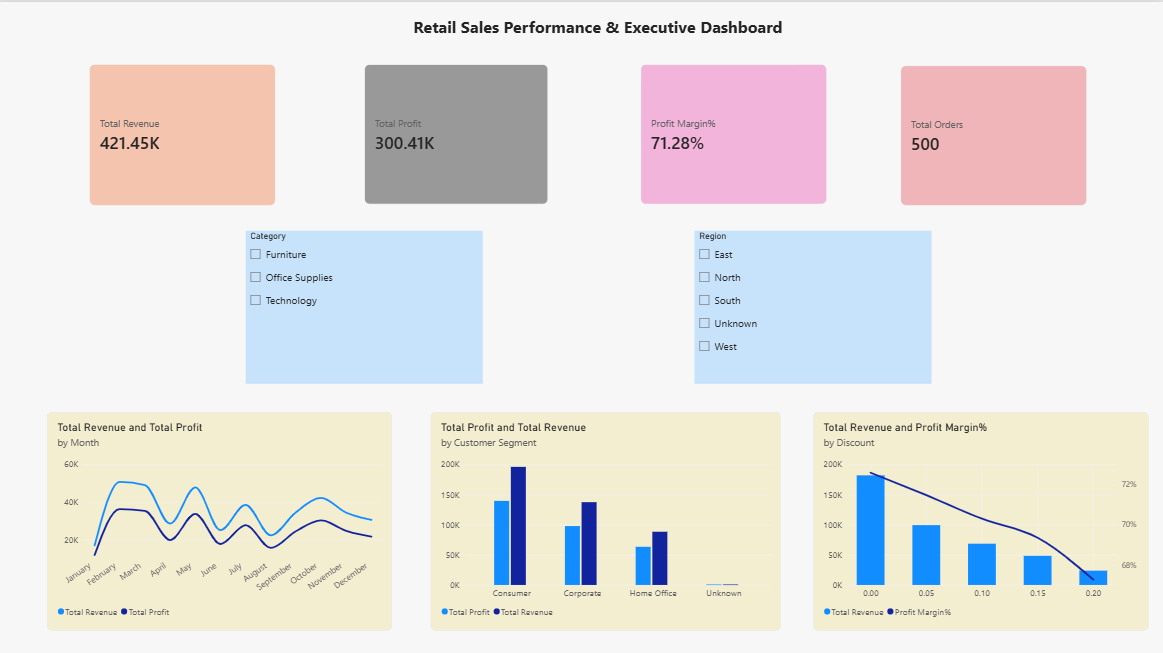

The page's visual inventory and layout, read from the dashboard file:
{"tool":"powerbi","page":{"name":"Page 1","canvas":[1920,1080],"ordinal":0},"visuals":[{"type":"cardVisual","fields":{"Data":["Cleaned_Data.Total Revenue"]},"box":[152,102,306,232],"z":0},{"type":"cardVisual","fields":{"Data":["Cleaned_Data.Total Profit"]},"box":[606,102,302,230],"z":1000},{"type":"cardVisual","fields":{"Data":["Cleaned_Data.Profit Margin%"]},"box":[1060,102,306,230],"z":2000},{"type":"cardVisual","fields":{"Data":["Cleaned_Data.Total Orders"]},"box":[1488,104,306,230],"z":3000},{"type":"slicer","fields":{"Values":["Cleaned_Data.Category"]},"box":[409.6,376.7,390,252],"z":4000},{"type":"slicer","fields":{"Values":["Cleaned_Data.Region"]},"box":[1148.5,376.7,390,252],"z":5000},{"type":"lineChart","fields":{"Category":["Cleaned_Data.Order Date.Variation.Date Hierarchy.Month","Cleaned_Data.Order Date.Variation.Date Hierarchy.Day"],"Y":["Cleaned_Data.Total Revenue","Cleaned_Data.Total Profit"]},"box":[82,676,568,360],"z":6000},{"type":"clusteredColumnChart","fields":{"Category":["Cleaned_Data.Customer Segment"],"Y":["Cleaned_Data.Total Profit","Cleaned_Data.Total Revenue"]},"box":[714,676,576,360],"z":7000},{"type":"lineStackedColumnComboChart","fields":{"Category":["Cleaned_Data.Discount"],"Y":["Cleaned_Data.Total Revenue"],"Y2":["Cleaned_Data.Profit Margin%"]},"box":[1344,676,552,360],"z":8000},{"type":"textbox","box":[685.4,22.6,634,63.8],"z":8001}]}

Visuals, with their boxes in screenshot pixels (x1, y1, x2, y2), scaled from the page's 1920x1080 canvas onto the 1163x653 screenshot:
cardVisual - Cleaned_Data.Total Revenue: 92, 62, 277, 202
cardVisual - Cleaned_Data.Total Profit: 367, 62, 550, 201
cardVisual - Cleaned_Data.Profit Margin%: 642, 62, 827, 201
cardVisual - Cleaned_Data.Total Orders: 901, 63, 1087, 202
slicer - Cleaned_Data.Category: 248, 228, 484, 380
slicer - Cleaned_Data.Region: 696, 228, 932, 380
lineChart - Cleaned_Data.Order Date.Variation.Date Hierarchy.Month x Cleaned_Data.Order Date.Variation.Date Hierarchy.Day: 50, 409, 394, 626
clusteredColumnChart - Cleaned_Data.Customer Segment x Cleaned_Data.Total Profit: 432, 409, 781, 626
lineStackedColumnComboChart - Cleaned_Data.Discount x Cleaned_Data.Total Revenue: 814, 409, 1148, 626
textbox: 415, 14, 799, 52
